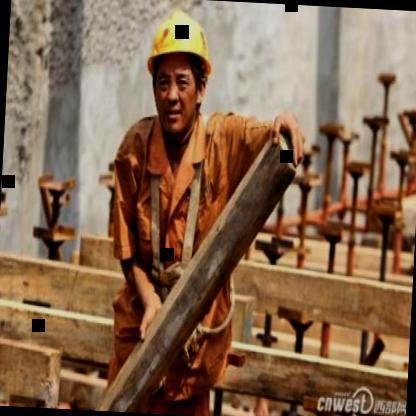helmet: (131, 0, 221, 141)
